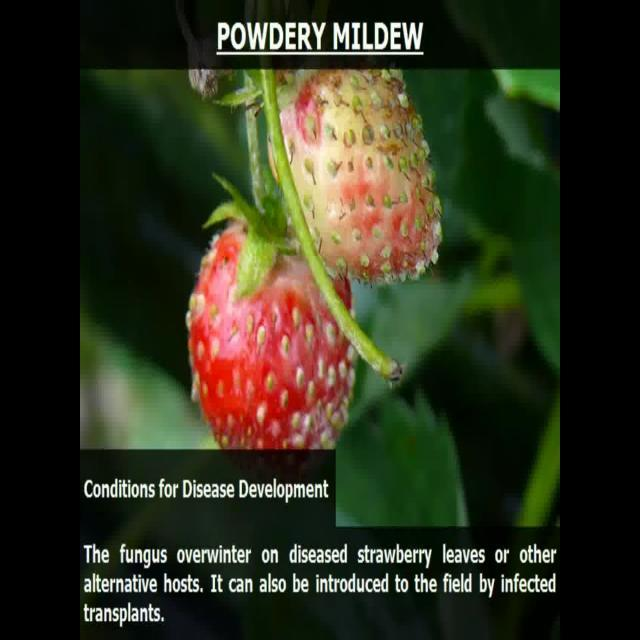Oído: (186, 220, 362, 452), (263, 73, 441, 287)
